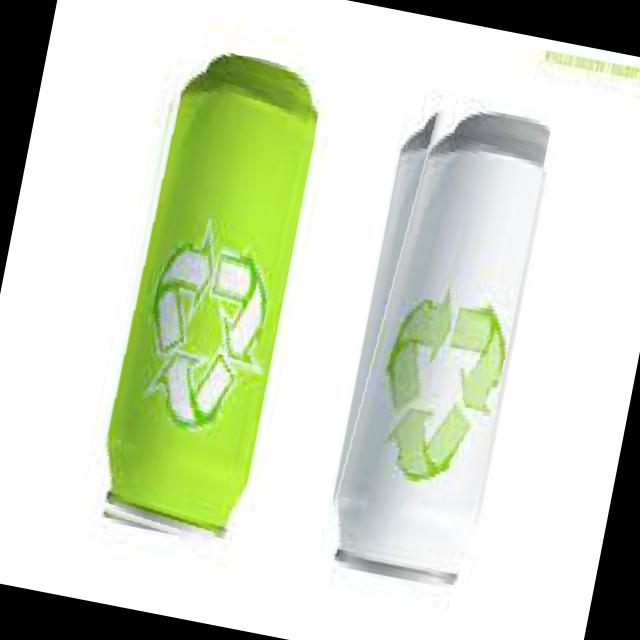Cans: (77, 41, 326, 552), (318, 85, 553, 588)
